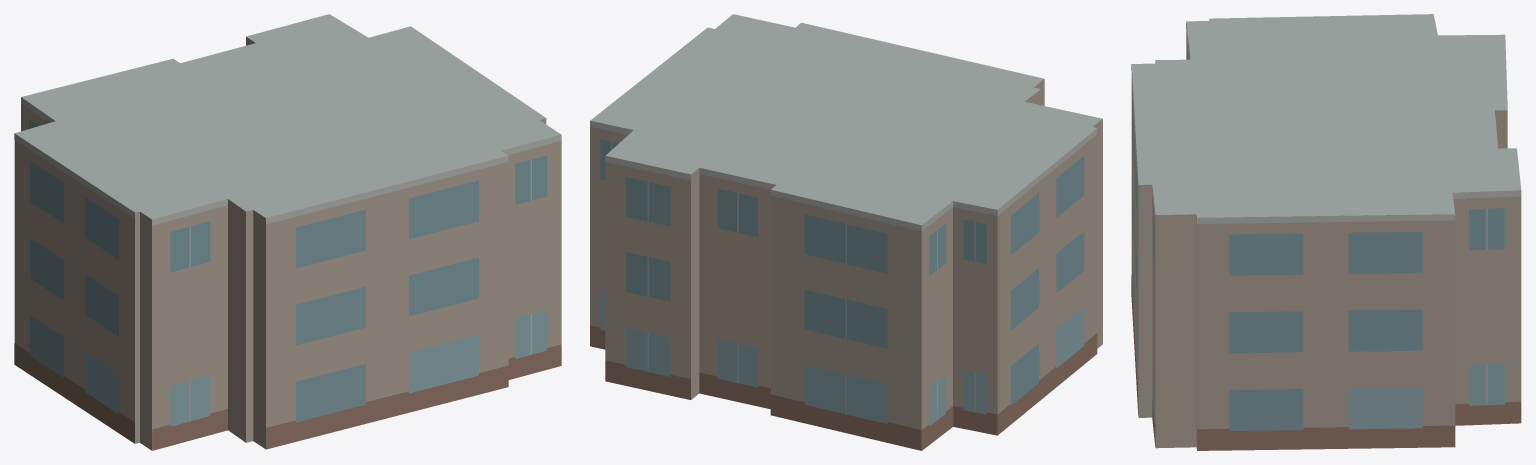
Rendered from survey-upis-32707961.glb.
3 views of the same model, side by side, from view 1: azimuth 30°, elevation 25°; view 2: azimuth 150°, elevation 25°; view 3: azimuth 270°, elevation 25° (orthographic). The views are drawn at different scales.
Visible parts, largest first — view 1: survey-upis-32707961.tmp; view 2: survey-upis-32707961.tmp; view 3: survey-upis-32707961.tmp.
Part boxes in pixels (x1,y1,x2,y2): survey-upis-32707961.tmp: [14, 14, 561, 450]; survey-upis-32707961.tmp: [590, 14, 1102, 450]; survey-upis-32707961.tmp: [1131, 14, 1521, 450].
Bounding box in the file's own units: 17.17 × 9.15 × 13.88.
